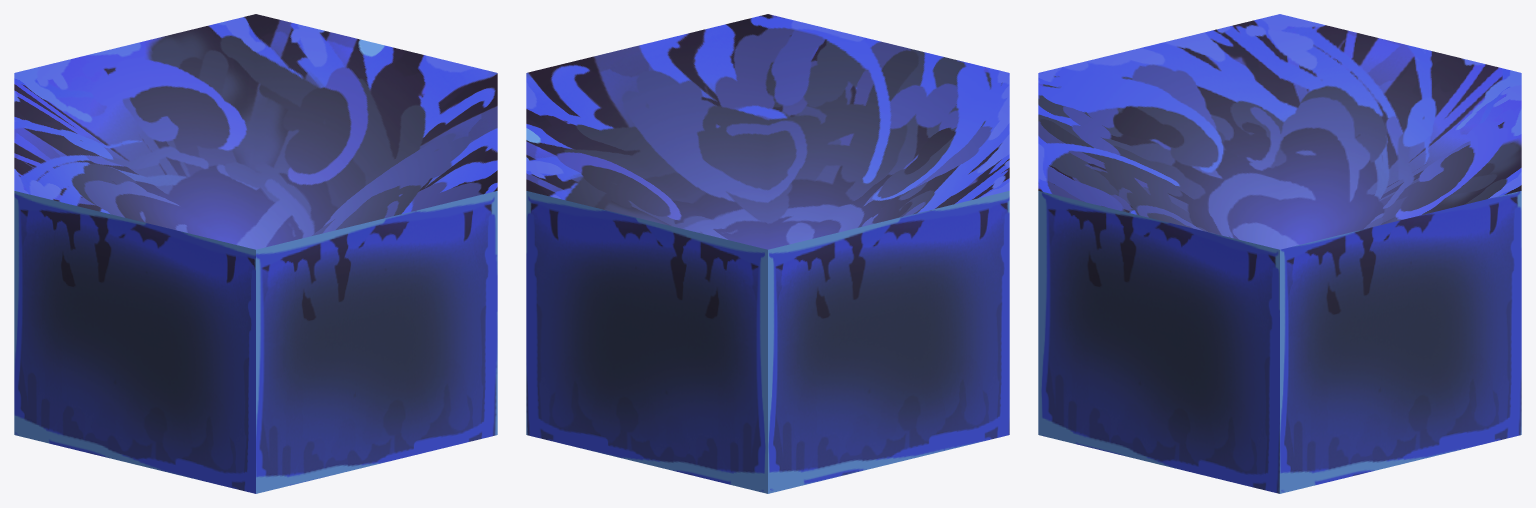
The model's file is tile_ocean.FBX.
3 views of the same model, side by side, from view 1: azimuth 30°, elevation 25°; view 2: azimuth 150°, elevation 25°; view 3: azimuth 270°, elevation 25° (orthographic).
Visible parts, largest first — view 1: Cylinder001; view 2: Cylinder001; view 3: Cylinder001.
Part boxes in pixels (<box>): Cylinder001: <box>14,14,497,493</box>; Cylinder001: <box>526,14,1009,493</box>; Cylinder001: <box>1038,14,1521,493</box>.
Size of the model in its own units: 25.3 by 21.91 by 12.22.
1 material, 1 textured.
